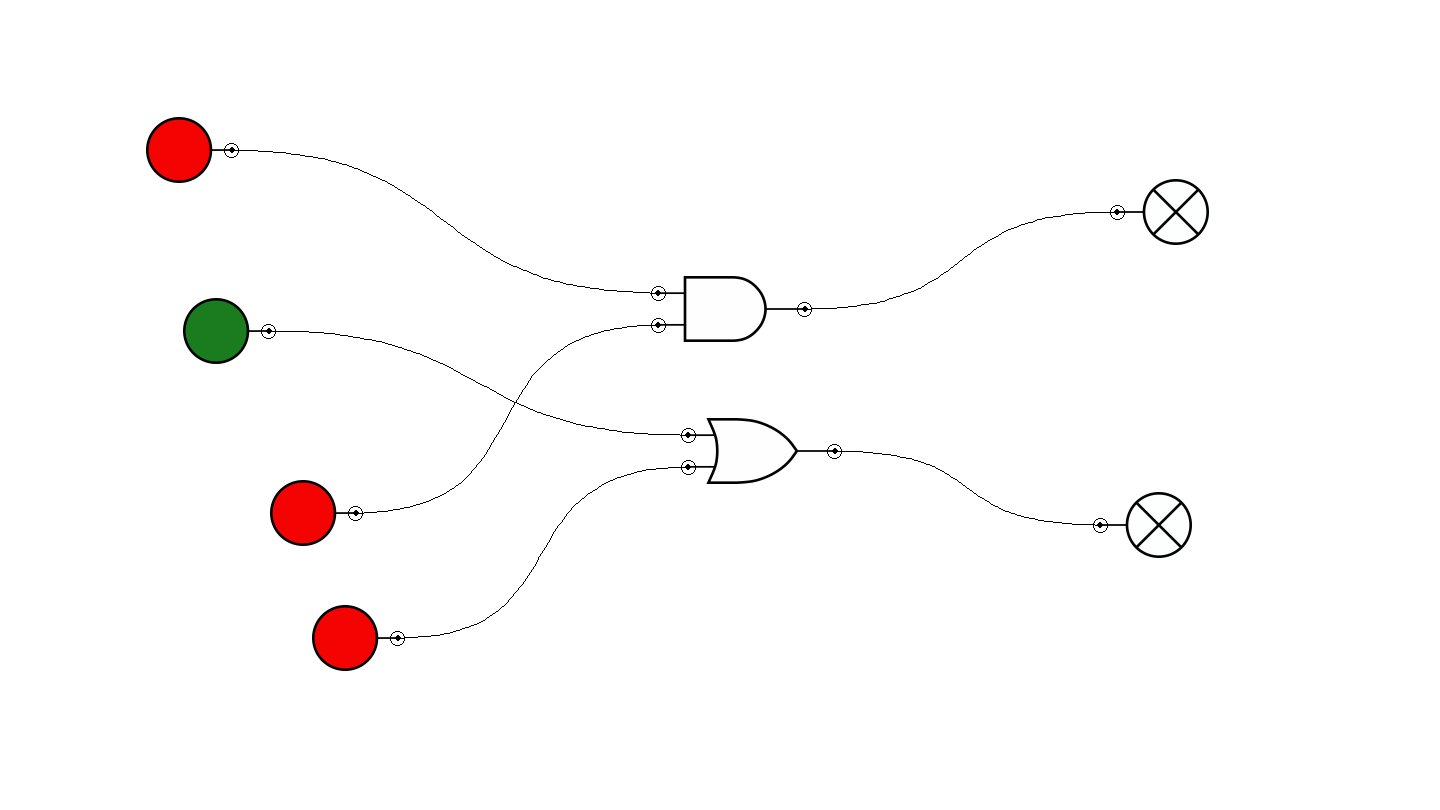and: (651, 276, 812, 342)
bulb: (1093, 492, 1192, 558), (1110, 179, 1209, 245)
or: (681, 418, 842, 484)
switch_False: (312, 605, 405, 671), (270, 480, 363, 546), (146, 117, 239, 183)
switch_True: (183, 298, 276, 364)
